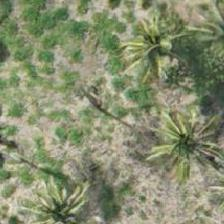coconut_tree: (108, 1, 198, 91), (142, 94, 223, 184), (9, 166, 99, 223)
